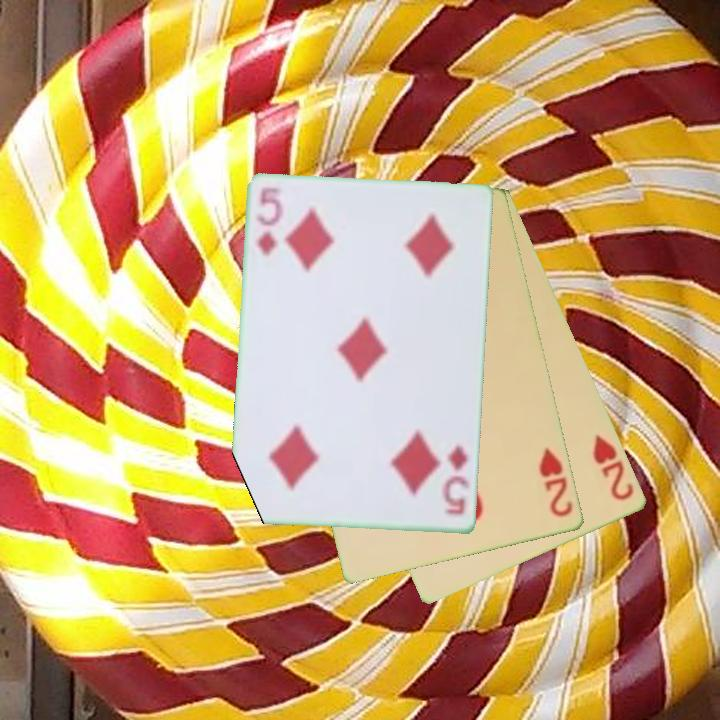2h: (589, 431, 638, 504), (535, 444, 576, 520)
5d: (439, 442, 472, 518), (253, 184, 284, 260)
